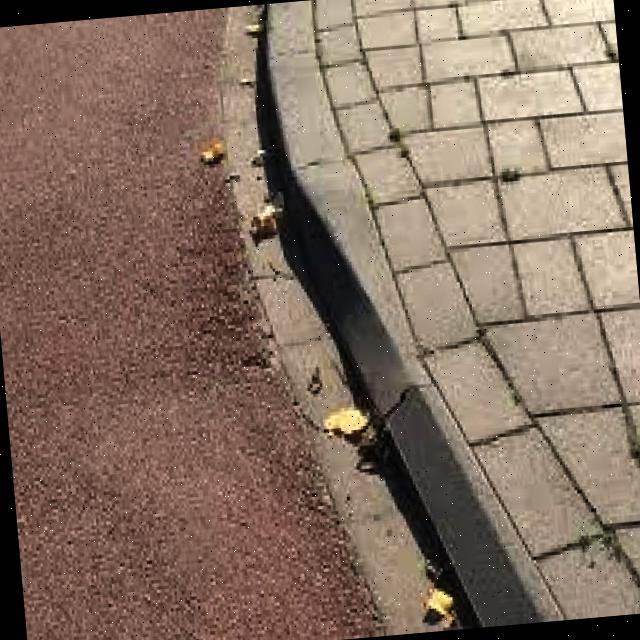curb: (310, 262, 451, 526), (367, 466, 571, 632), (246, 1, 357, 289)
